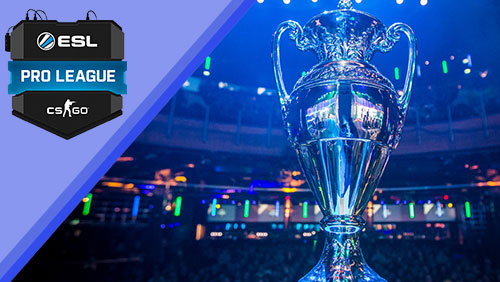trophy: (270, 1, 419, 282)
